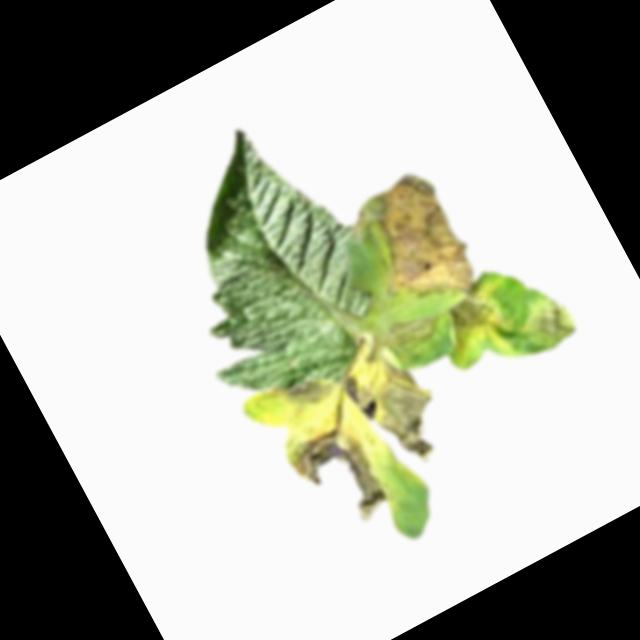Late_blight: (336, 162, 489, 325), (333, 325, 461, 478), (280, 412, 397, 542), (431, 274, 524, 372), (512, 286, 584, 358), (267, 357, 342, 421), (375, 297, 446, 359)
healthy: (117, 102, 411, 427)
